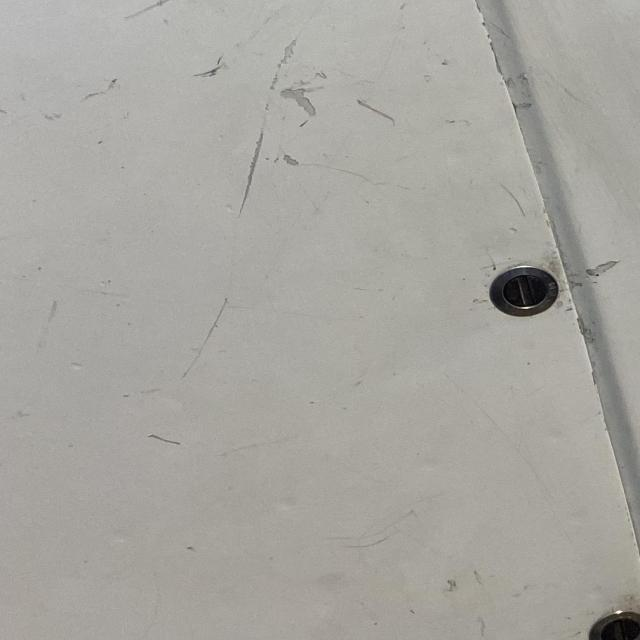Paint-off: (276, 84, 319, 117), (279, 152, 298, 167)
